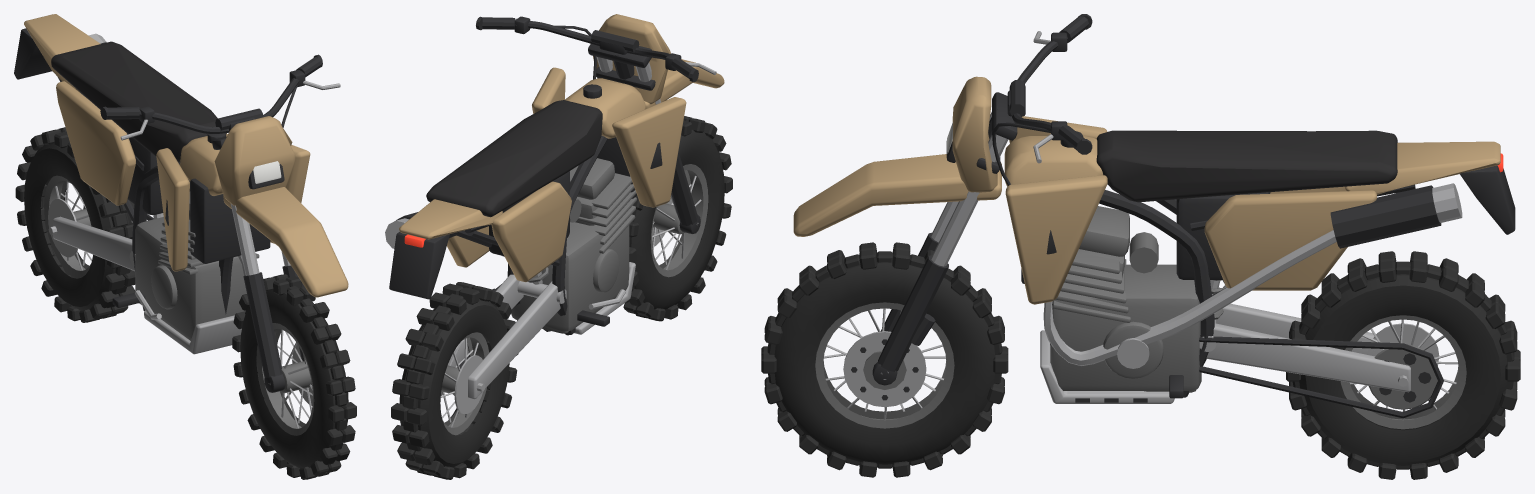
File: DirtBike.fbx
3 renders of one model, left to right at view 1: azimuth 30°, elevation 25°; view 2: azimuth 150°, elevation 25°; view 3: azimuth 270°, elevation 25°, orthographic. The views are drawn at different scales.
Visible parts, largest first — view 1: DirtBike_Mesh; view 2: DirtBike_Mesh; view 3: DirtBike_Mesh.
Part boxes in pixels (x1=…): DirtBike_Mesh: x1=14, y1=14, x2=356, y2=479; DirtBike_Mesh: x1=385, y1=14, x2=732, y2=479; DirtBike_Mesh: x1=761, y1=14, x2=1520, y2=479.
Bounding box in the file's own units: 0.8427 × 1.21 × 2.1.
